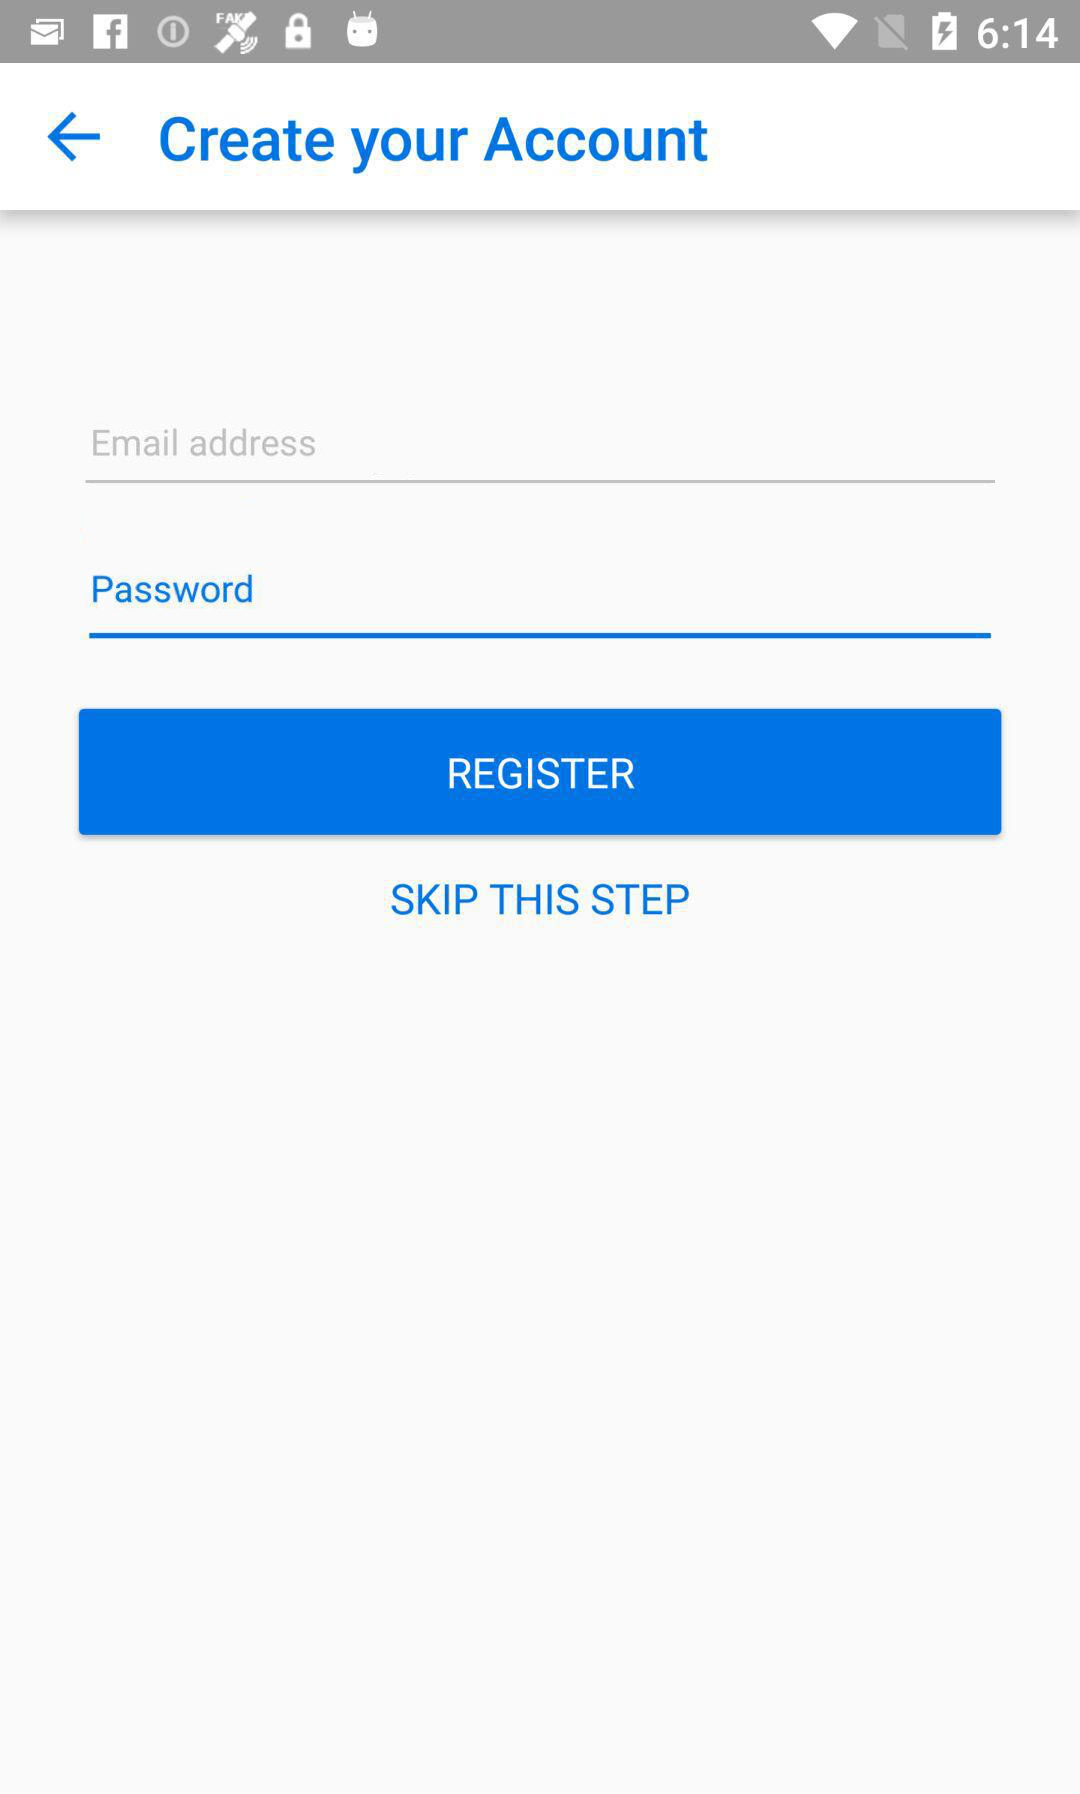EditText: (88, 574, 992, 639), (85, 428, 995, 484)
Icon: (47, 111, 102, 163)
Text: (160, 117, 708, 176), (391, 883, 691, 918), (94, 429, 316, 457), (94, 574, 254, 604)
TextButton: (79, 709, 1002, 835)
Toolbar: (1, 64, 1080, 211)
UpperTaskBar: (1, 1, 1080, 64)
